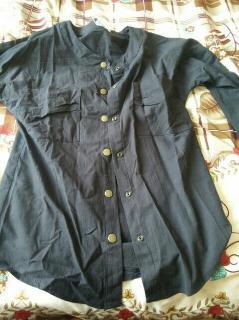long sleeve outwear: (0, 18, 239, 309)
